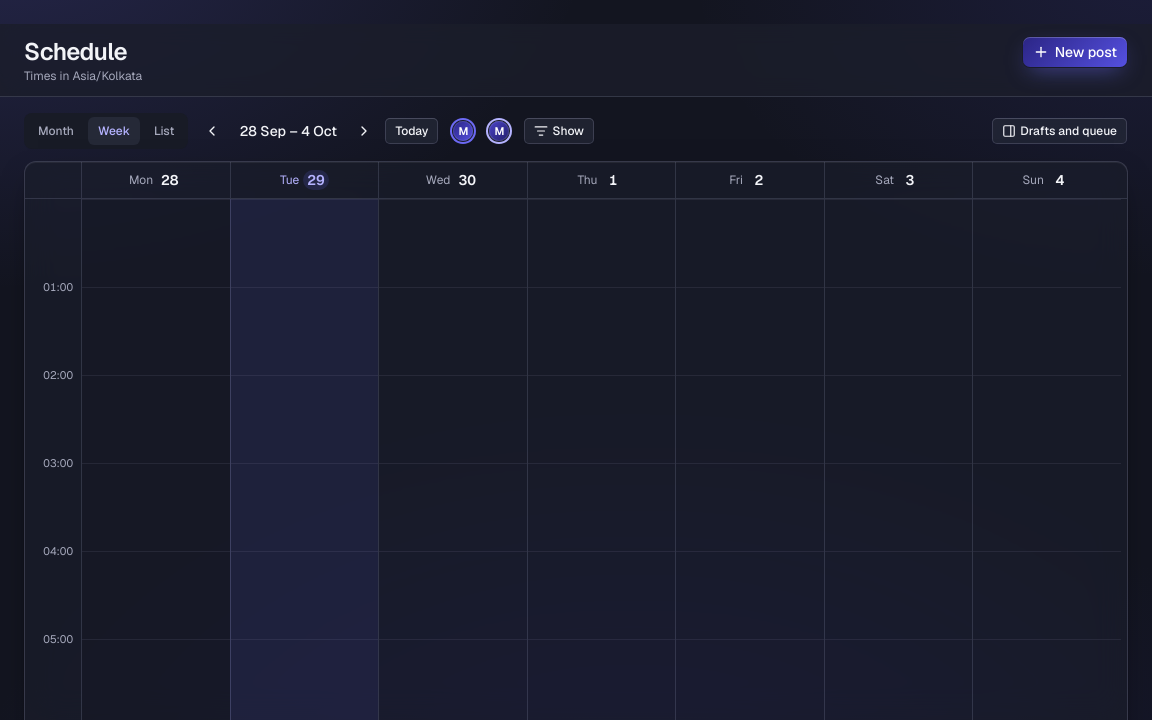
Schedule page: List (UX-SCR-04, FR-PUB-14) › lists a tab's posts and shifts the selected ones
Step 1. Click the radio button labelled "List" → (164, 131), box left=144, top=117, right=184, bottom=145
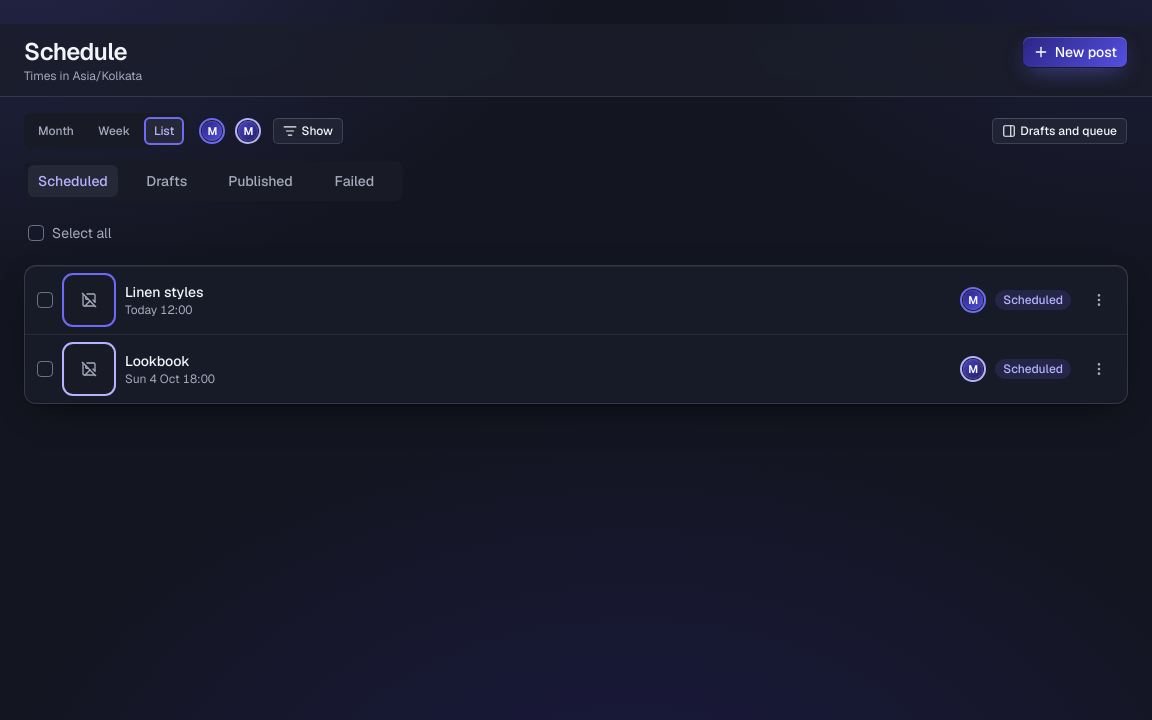
Expected: the number of list items is 2, left=25, top=266, right=1127, bottom=335; left=25, top=335, right=1127, bottom=403
Step 2. Click the checkbox named "Select Linen styles" → (45, 300), box left=37, top=292, right=53, bottom=308
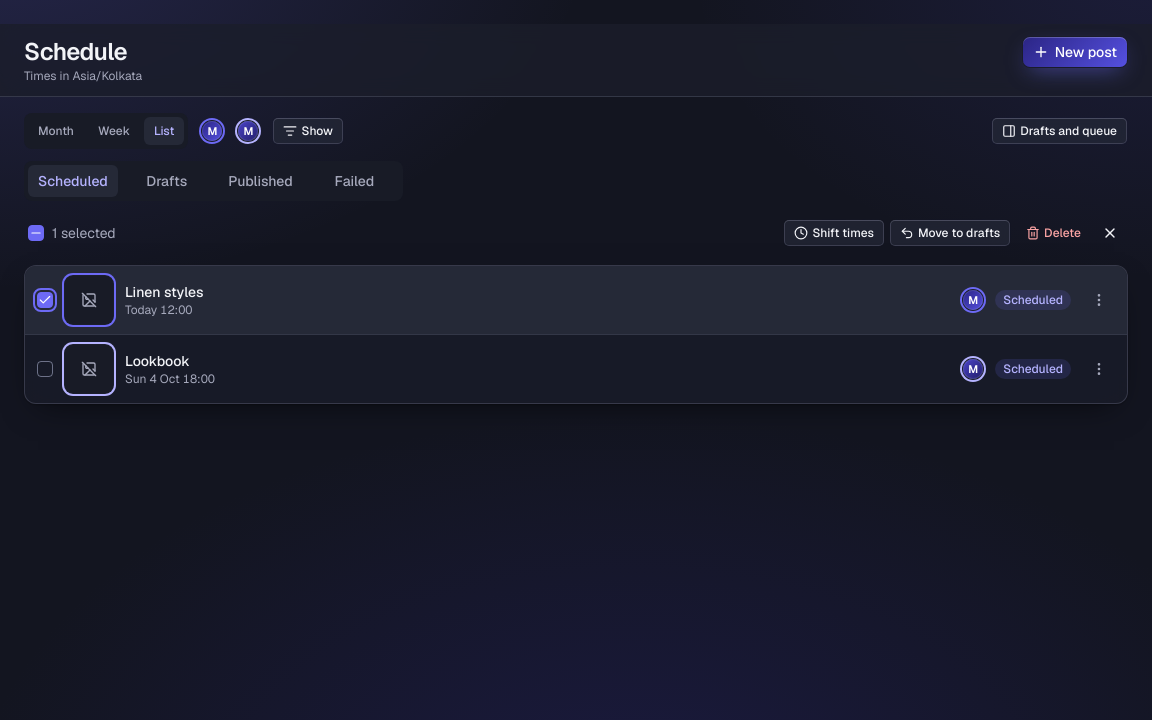
Step 3. Click the checkbox named "Select Lookbook" → (45, 369), box left=37, top=361, right=53, bottom=377
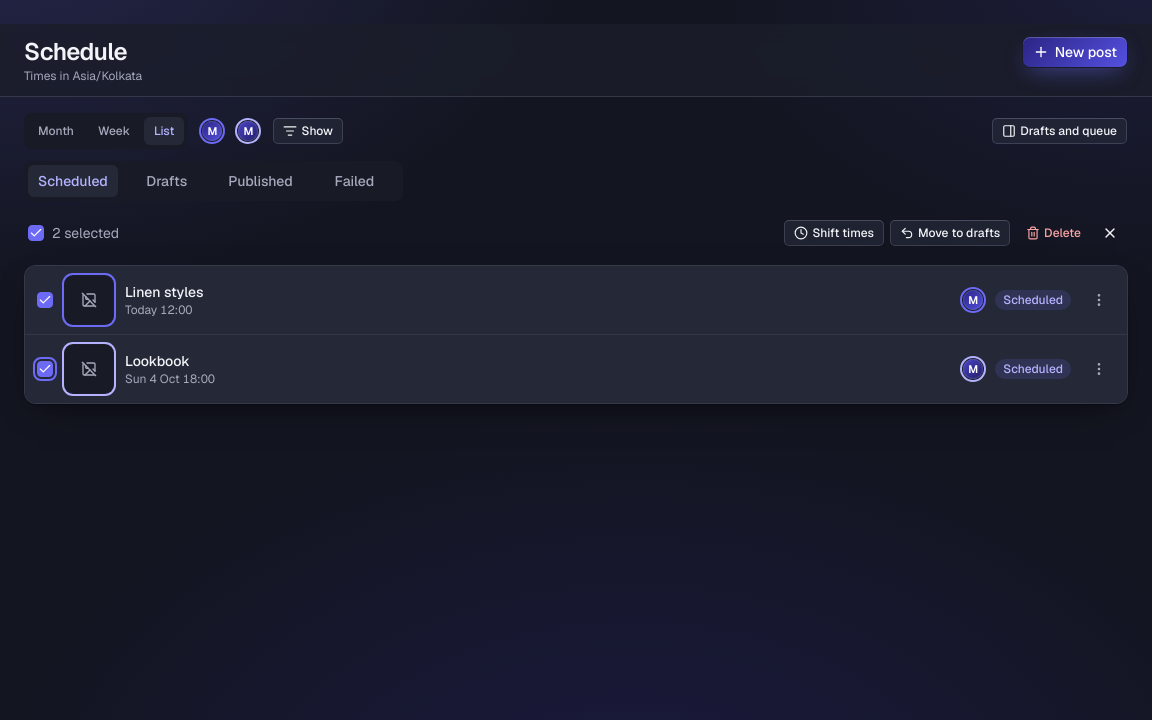
Expected: the text "2 selected" is shown, left=52, top=224, right=119, bottom=242
Step 4. Click the button "Shift times" → (834, 233), box left=783, top=219, right=885, bottom=247
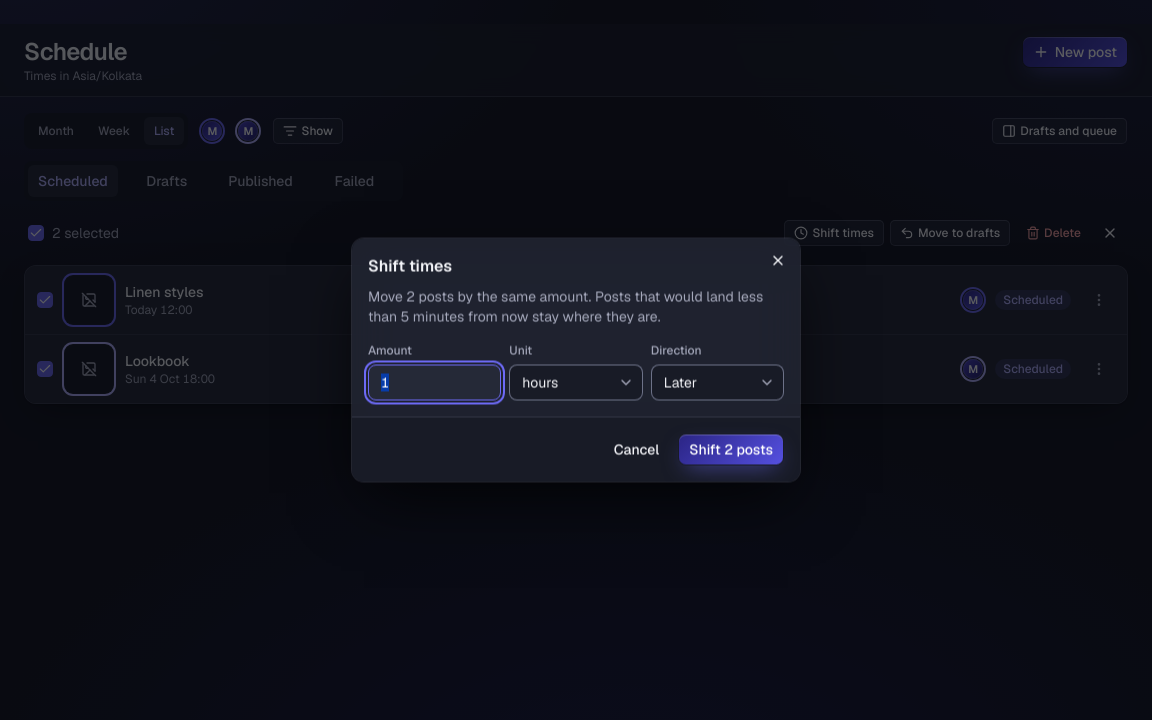
Step 5. Replace the text in the field labelled "Amount" with "2" → (435, 382), box left=368, top=364, right=501, bottom=400
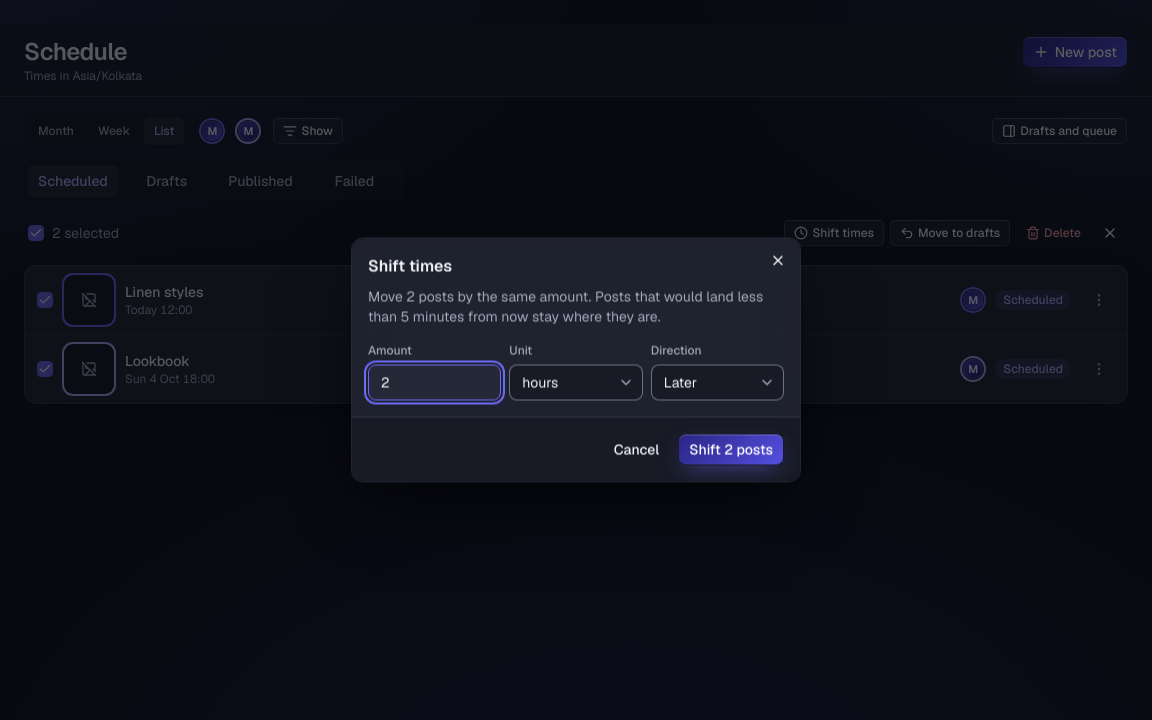
Step 6. Click the button "Shift 2 posts" → (731, 450), box left=678, top=434, right=784, bottom=466
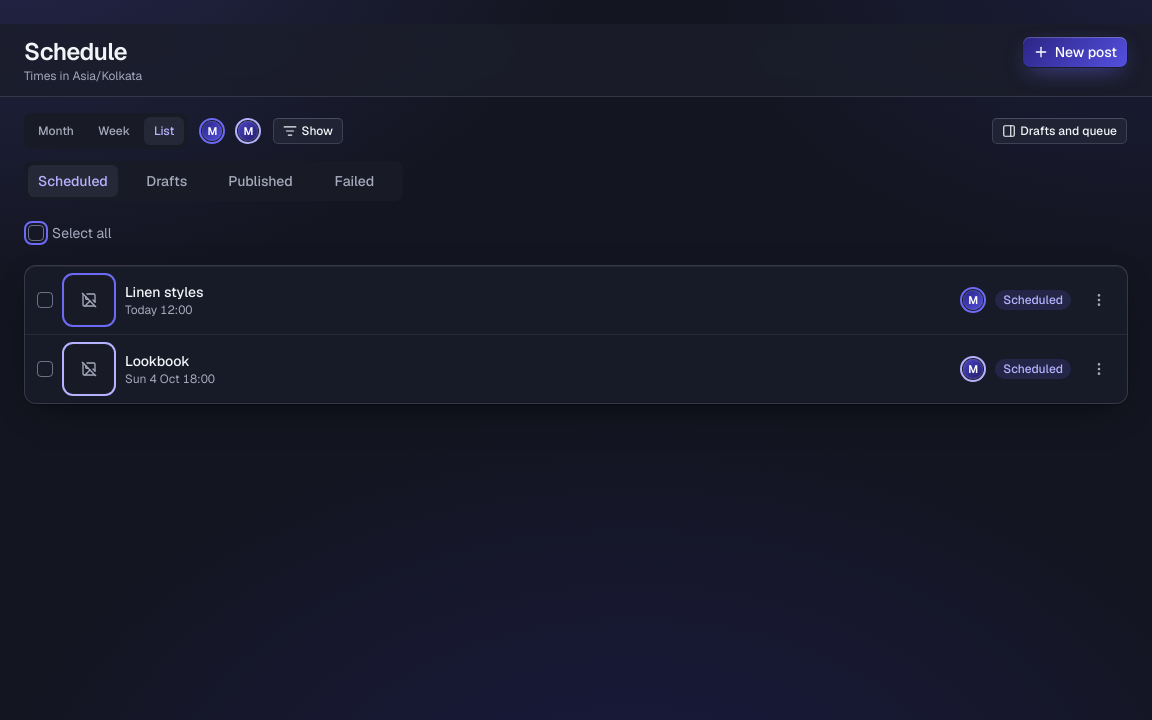
Expected: the dialog is gone
